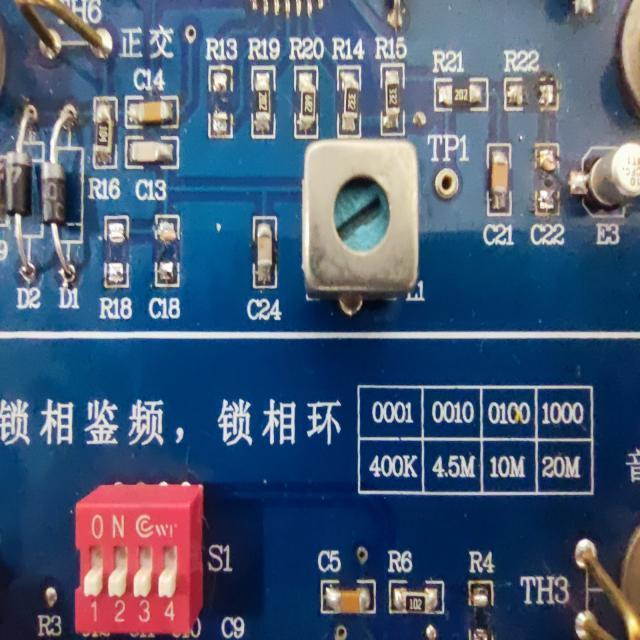Missing component: (96, 208, 136, 326), (528, 140, 568, 253), (502, 46, 564, 116), (147, 210, 185, 324), (201, 34, 239, 142), (466, 549, 500, 640)
